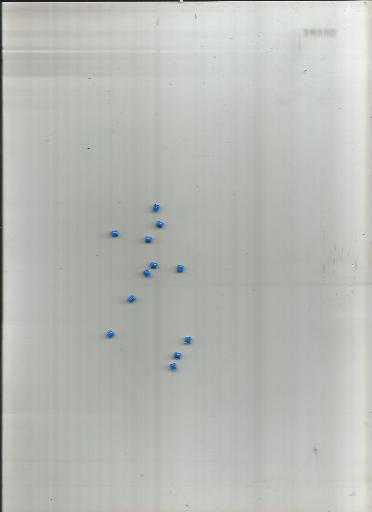Pellet: (150, 202, 161, 213), (156, 220, 164, 230), (170, 362, 178, 371), (174, 351, 182, 360), (105, 329, 114, 337), (127, 295, 136, 303), (143, 269, 151, 278), (144, 235, 152, 244), (184, 335, 191, 344), (177, 264, 184, 273), (150, 262, 159, 269), (111, 230, 119, 237)
